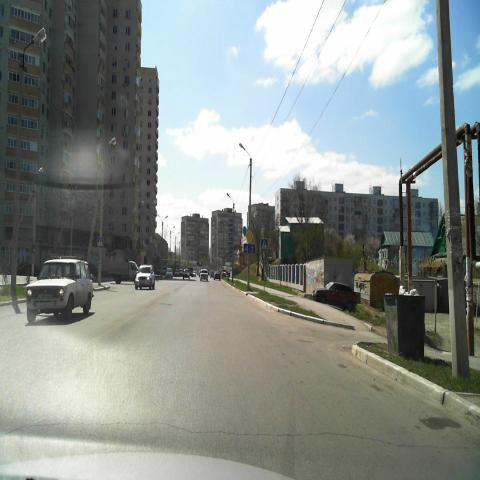5_15_2_2: (243, 244, 255, 253)
